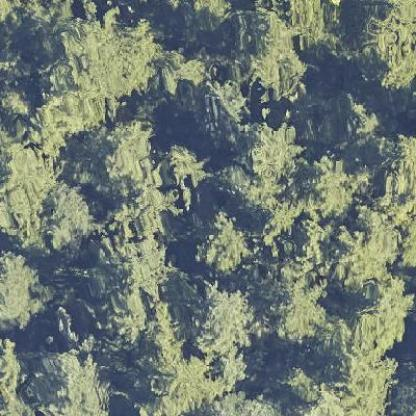tree-top: (28, 344, 114, 415), (267, 264, 333, 346), (359, 0, 415, 90), (195, 284, 252, 360), (235, 115, 299, 181), (40, 185, 96, 254), (306, 152, 361, 220), (0, 252, 45, 328), (192, 213, 247, 275)
